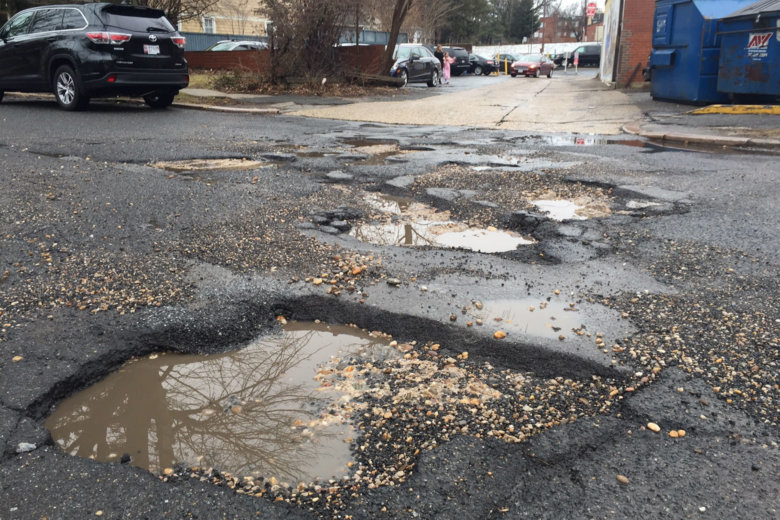pothole: (37, 249, 562, 490), (310, 181, 532, 265), (496, 159, 659, 233), (608, 109, 779, 161), (122, 131, 284, 183), (317, 112, 400, 173)
